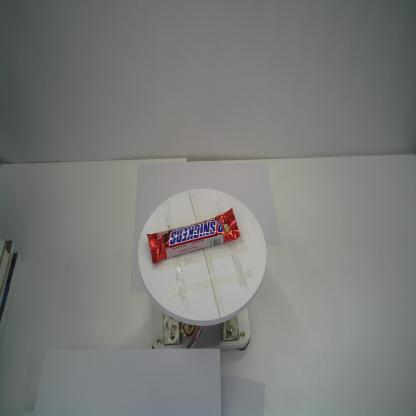Chocolate: (143, 204, 242, 268)
